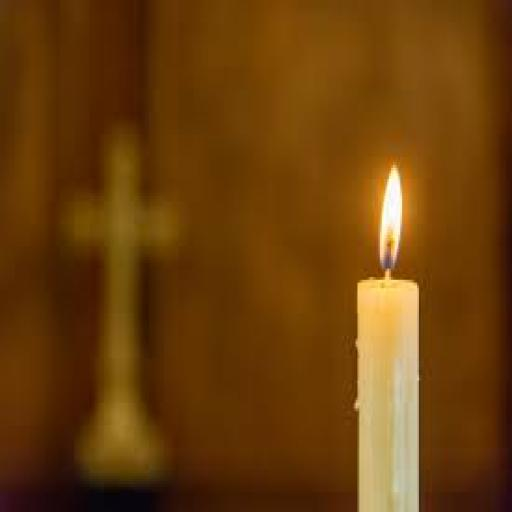fire: (359, 145, 406, 271)
